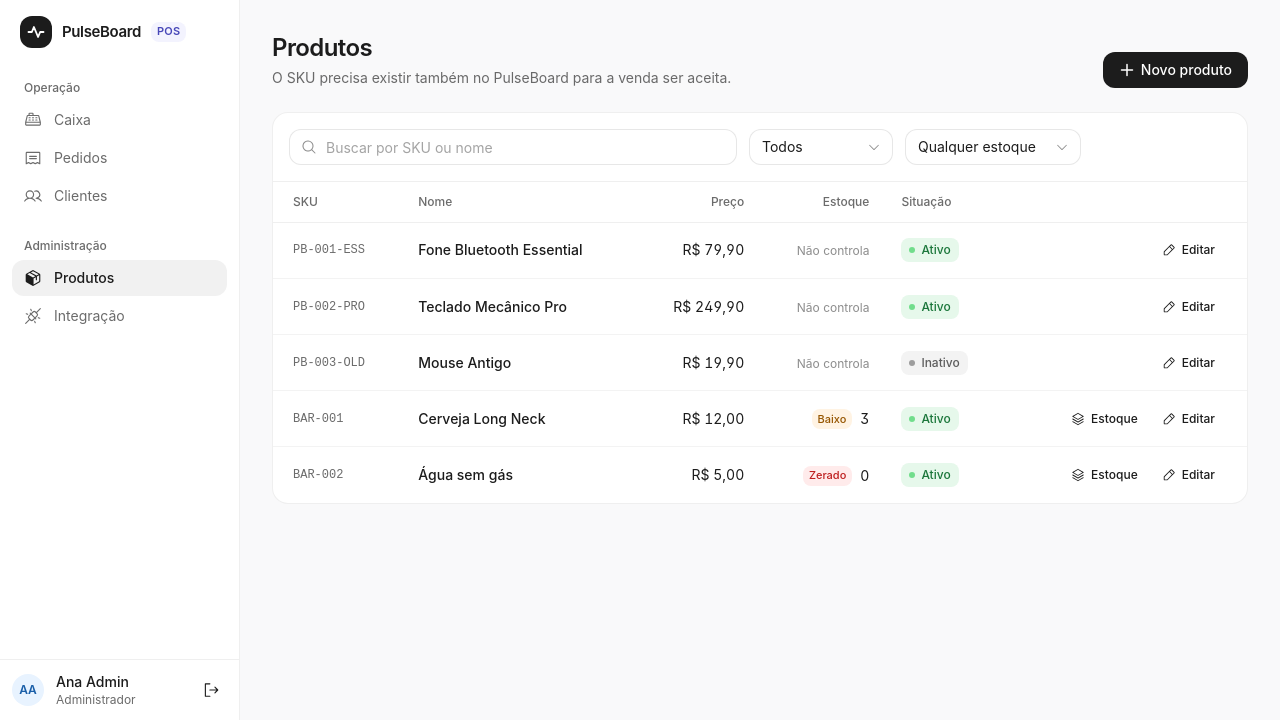
stock (admin) › shows the balance with a low or empty badge, and filters low stock
Expected: the text "Cerveja Long Neck" is shown, [402,390,637,446]
Expected: the text "Baixo" is shown, [812,409,852,429]
Select "Estoque baixo" in the dropdown named "Estoque" at (993, 147), box [905,129,1081,165]
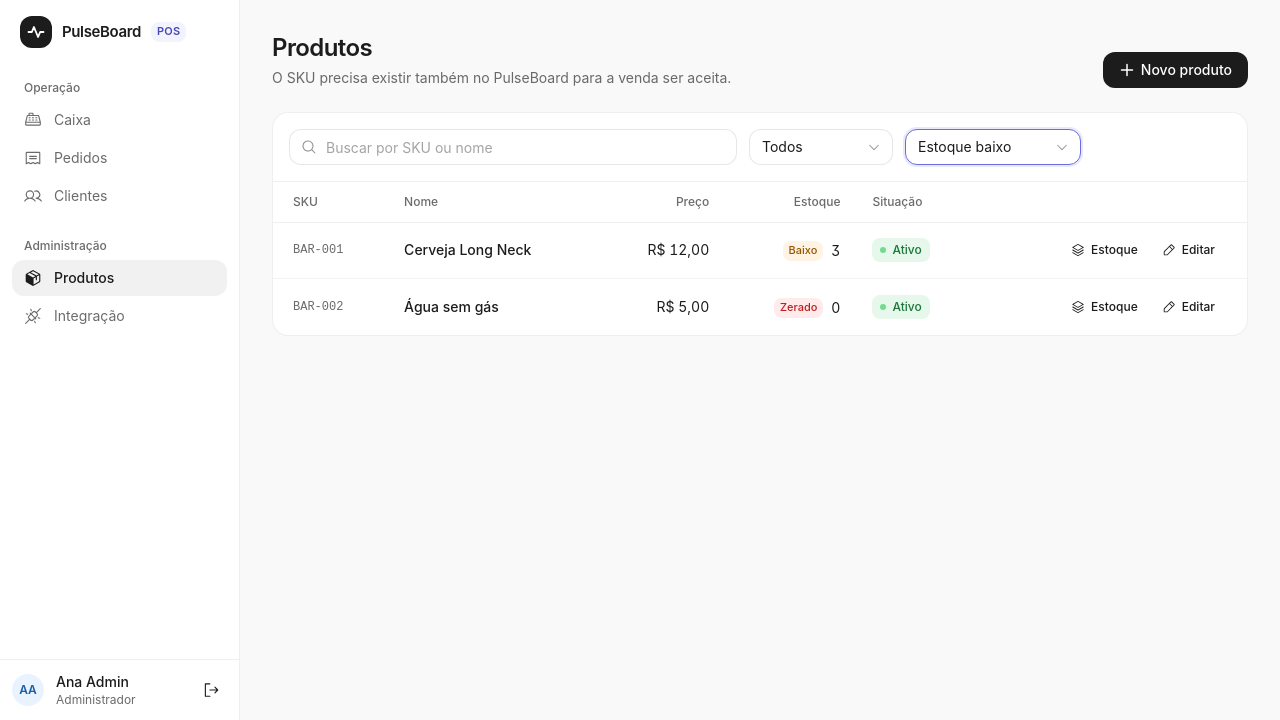
Expected: the text "Cerveja Long Neck" is shown, [388,222,600,278]
Expected: the text "Fone Bluetooth Essential" is gone
